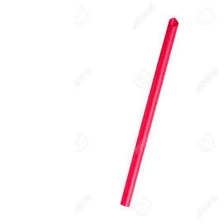drinking_straw: (115, 13, 185, 210)
